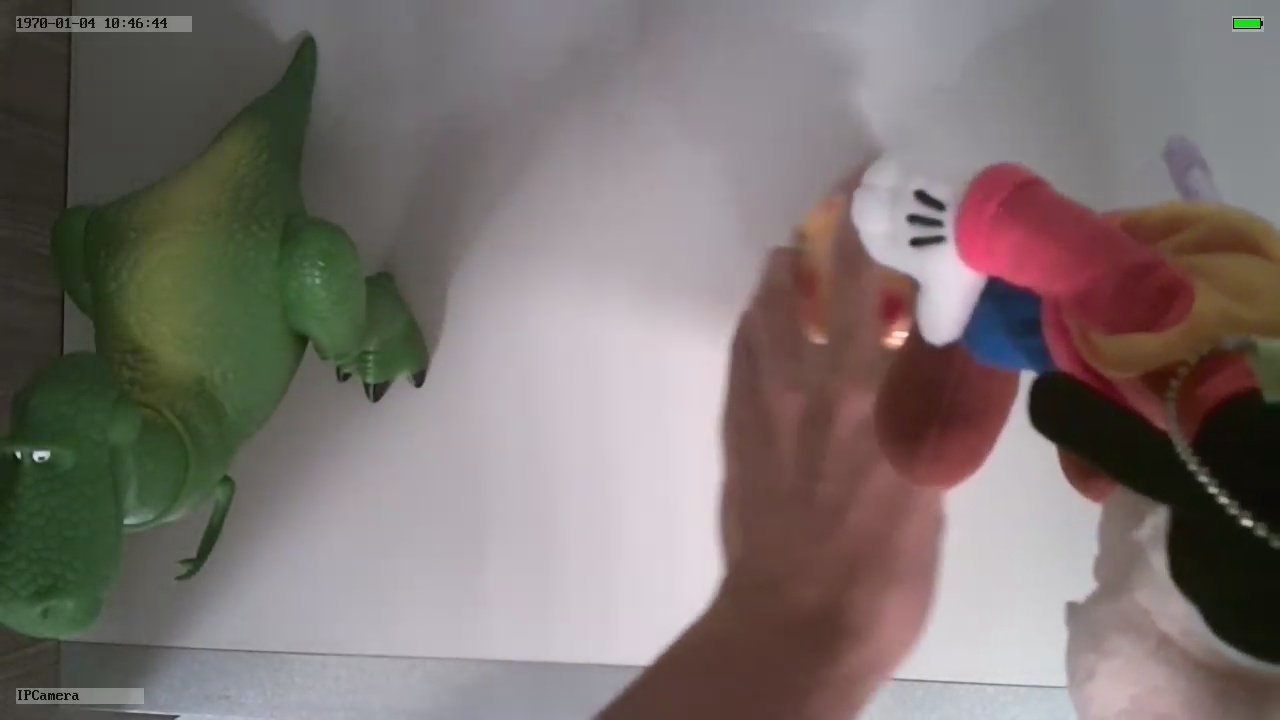rex: (1, 126, 430, 638)
